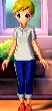woman_no_egg: (1, 1, 52, 111)
